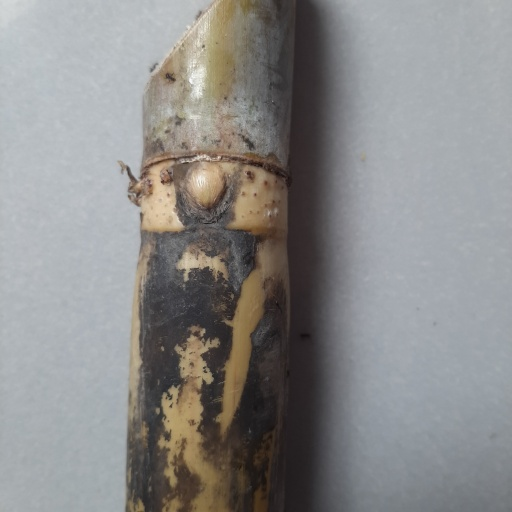Bud: (184, 159, 229, 212)
